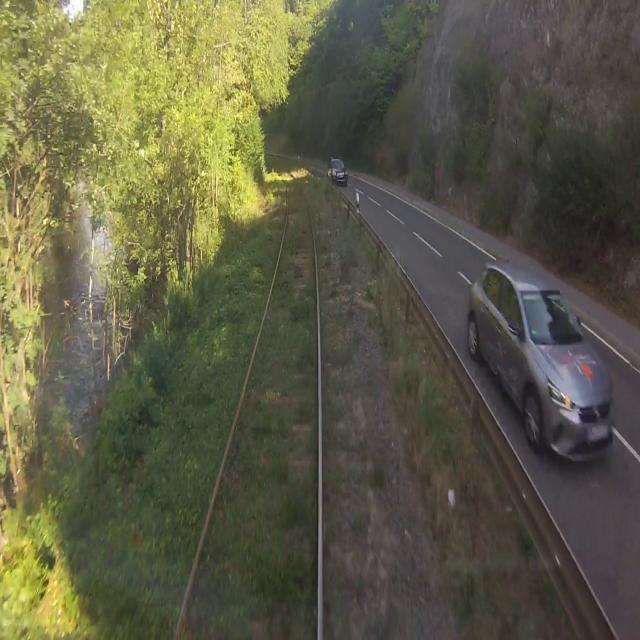Plant: (143, 171, 286, 639), (177, 177, 317, 636), (312, 194, 386, 635)
